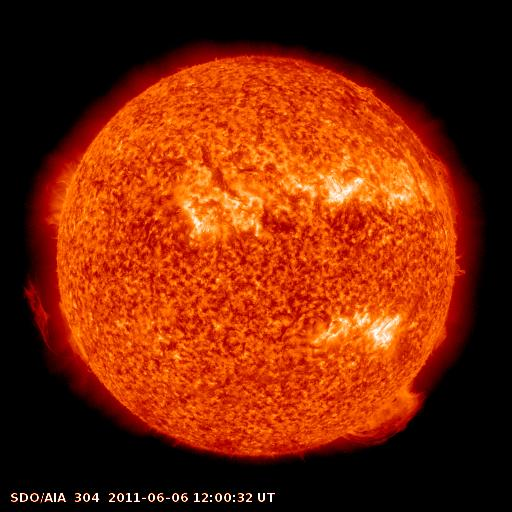prominence: (332, 376, 440, 452), (16, 273, 92, 374), (419, 142, 467, 222), (418, 320, 454, 355), (446, 250, 472, 283)
